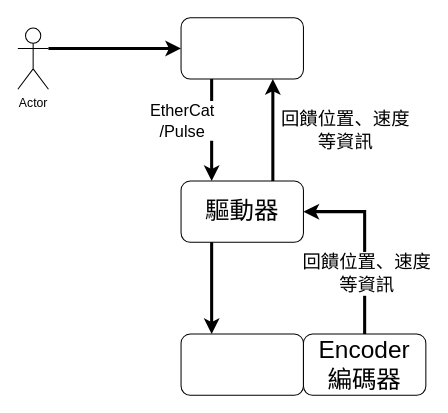
This 448x413 diagram has some shape labels left out. Each missing label, with the centre of its shape:
"控制器 /上位機" belongs at (x=241, y=48).
"馬達/電機" belongs at (x=241, y=364).
